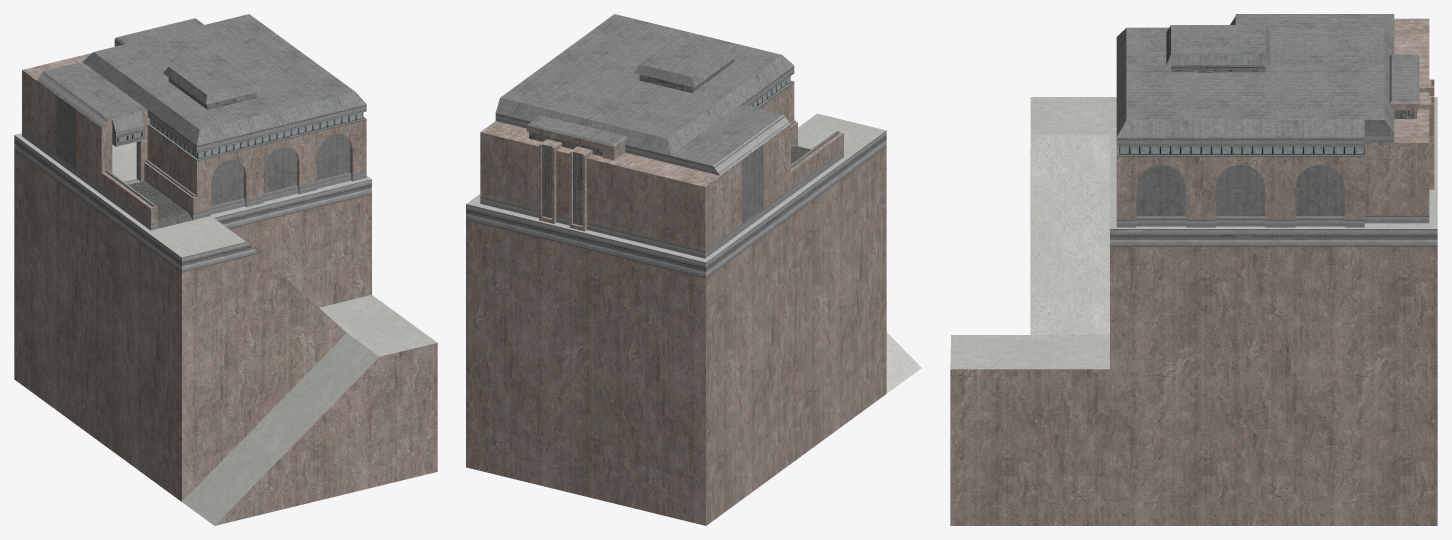
The model's file is ply_corl_house_sm_s01_fp1_r0_exterior_mesh_l0.fbx.
The picture shows the model from 3 angles, left to right: view 1: azimuth 30°, elevation 25°; view 2: azimuth 150°, elevation 25°; view 3: azimuth 270°, elevation 25°; orthographic projection. The views are drawn at different scales.
Visible parts, largest first — view 1: mesh_node; view 2: mesh_node; view 3: mesh_node.
Boxes of the visible parts, <box> form: mesh_node: <box>14,14,437,525</box>; mesh_node: <box>466,14,921,525</box>; mesh_node: <box>950,14,1437,525</box>.
Bounding box in the file's own units: 15.74 × 23.24 × 24.55.
